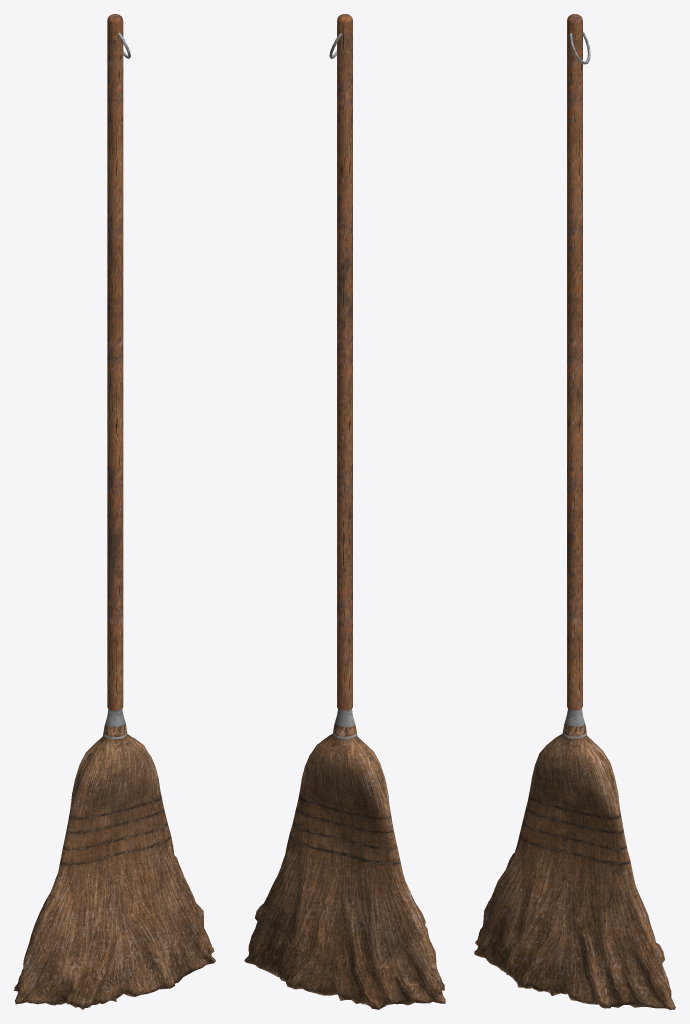
The model's file is Метла.fbx.
3 renders of one model, left to right at view 1: azimuth 30°, elevation 25°; view 2: azimuth 150°, elevation 25°; view 3: azimuth 330°, elevation 25°, orthographic.
Parts seen in each view (by area): view 1: Object_8; view 2: Object_8; view 3: Object_8.
Part boxes in pixels (x1=…): Object_8: x1=14, y1=14, x2=215, y2=1009; Object_8: x1=244, y1=14, x2=445, y2=1009; Object_8: x1=474, y1=14, x2=675, y2=1009.
Size of the model in its own units: 0.6937 by 3.25 by 0.1804.
1 material, 1 textured.
